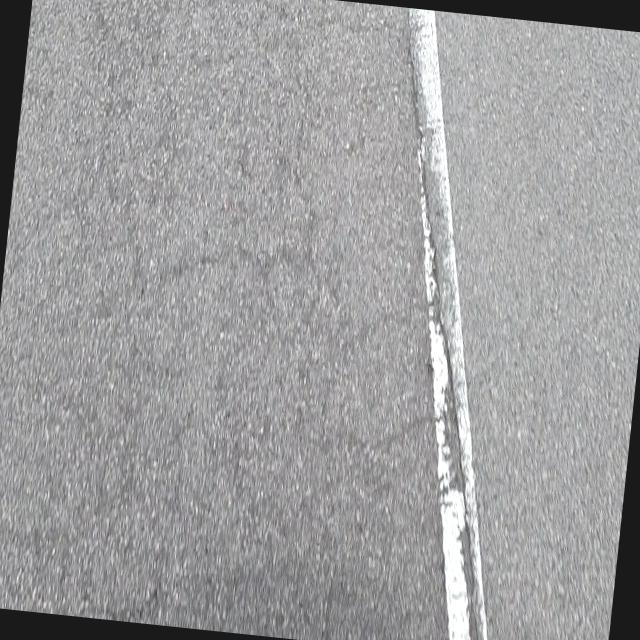Retak-Memanjang: (403, 45, 480, 640)
